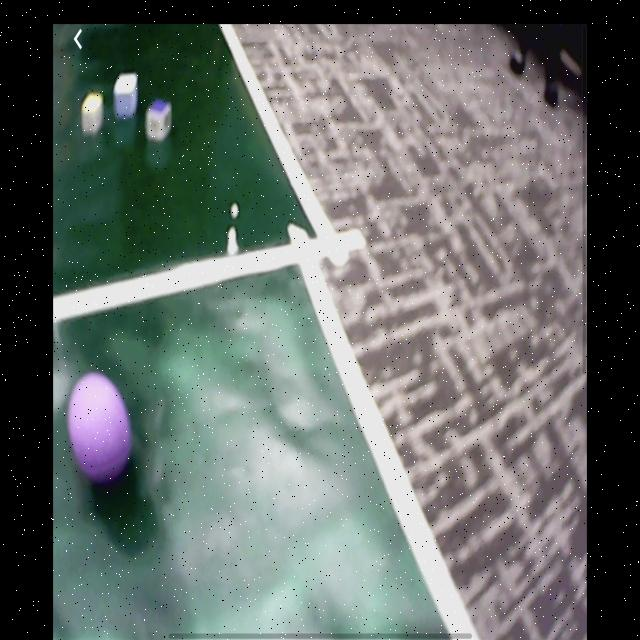ball: (69, 375, 135, 480)
